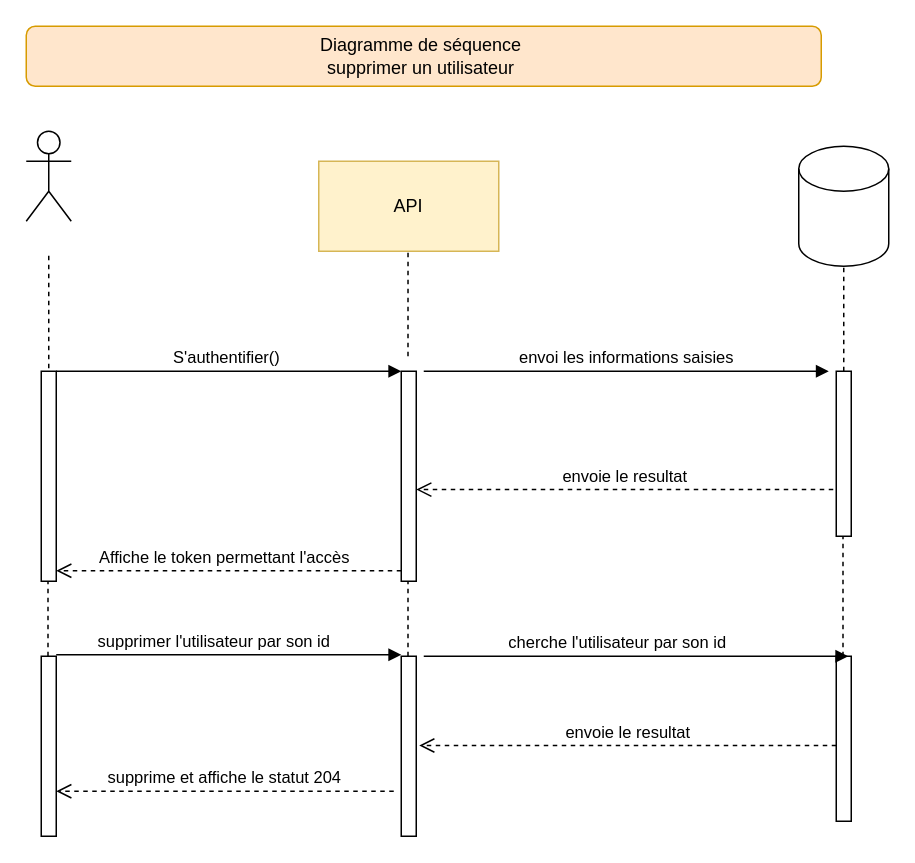
Some shapes in this 915 by 863 pixel diagram are drawn without their labels. The shapes that lost their labels are listed below. From the top down, each one's centre as x and y in pixels, then its label:
At (x=48, y=175): "client".
At (x=843, y=205): "BDD".
